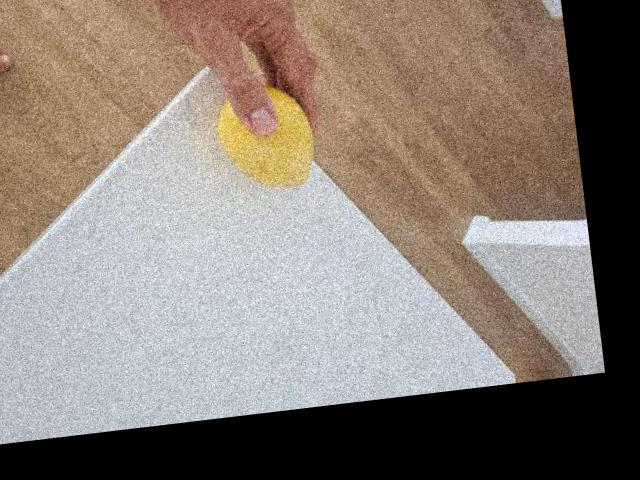lemon: (211, 81, 319, 199)
